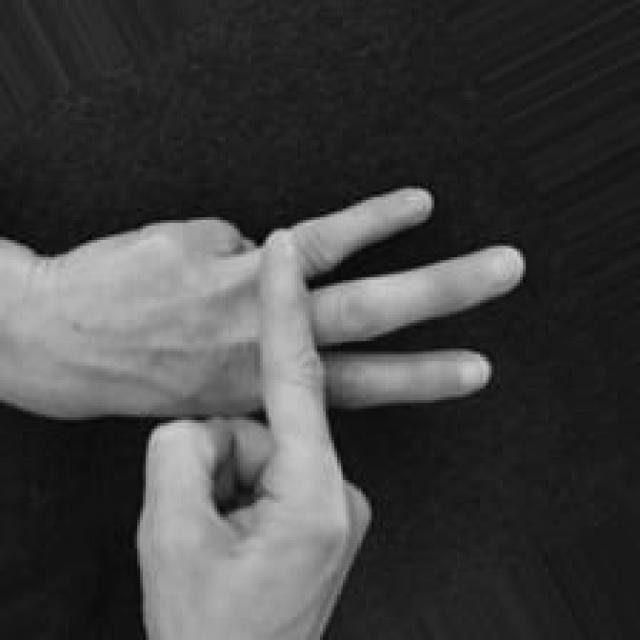E: (70, 185, 530, 640)
